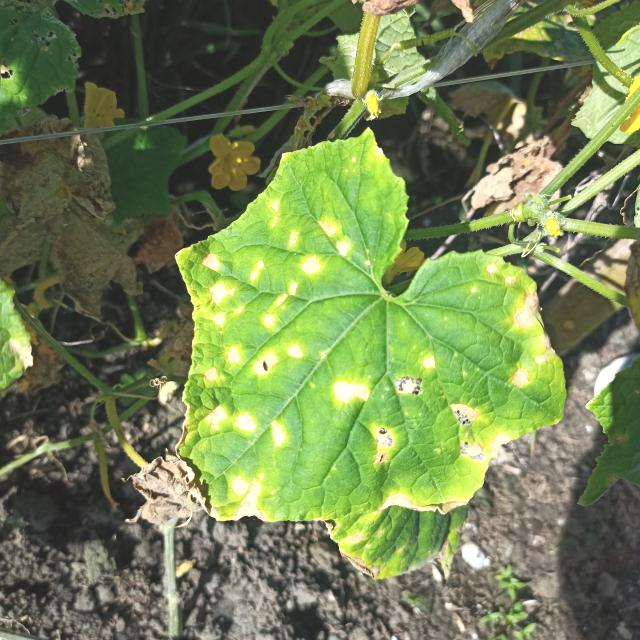disease_cucumber: (195, 193, 550, 516)
